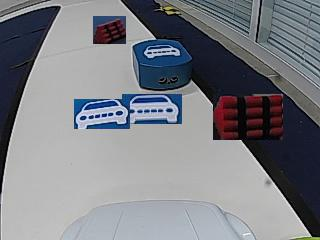safety: (143, 44, 180, 58)
